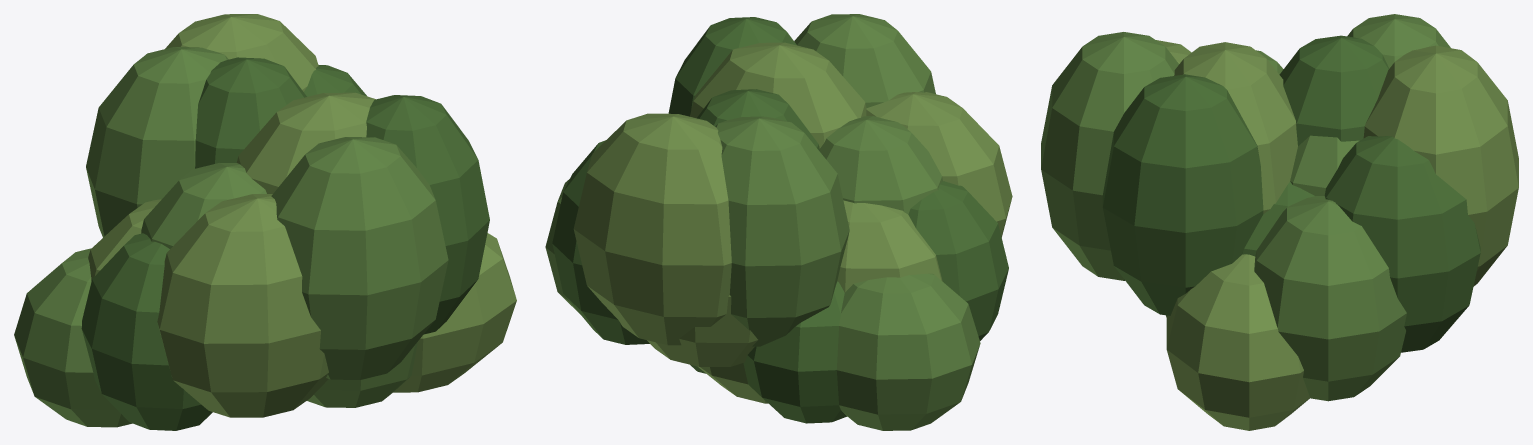
Rendered from campus_bush.glb.
The picture shows the model from 3 angles, left to right: view 1: azimuth 30°, elevation 25°; view 2: azimuth 150°, elevation 25°; view 3: azimuth 270°, elevation 25°; orthographic projection. The views are drawn at different scales.
Parts seen in each view (by area): view 1: foliage (×3); view 2: foliage (×3); view 3: foliage (×3).
Part boxes in pixels (x1,y1,x2,y2): foliage (×3): (14,14,516,430); foliage (×3): (545,14,1012,430); foliage (×3): (1041,14,1518,430).
Size of the model in its own units: 4.76 by 3.26 by 4.39.
